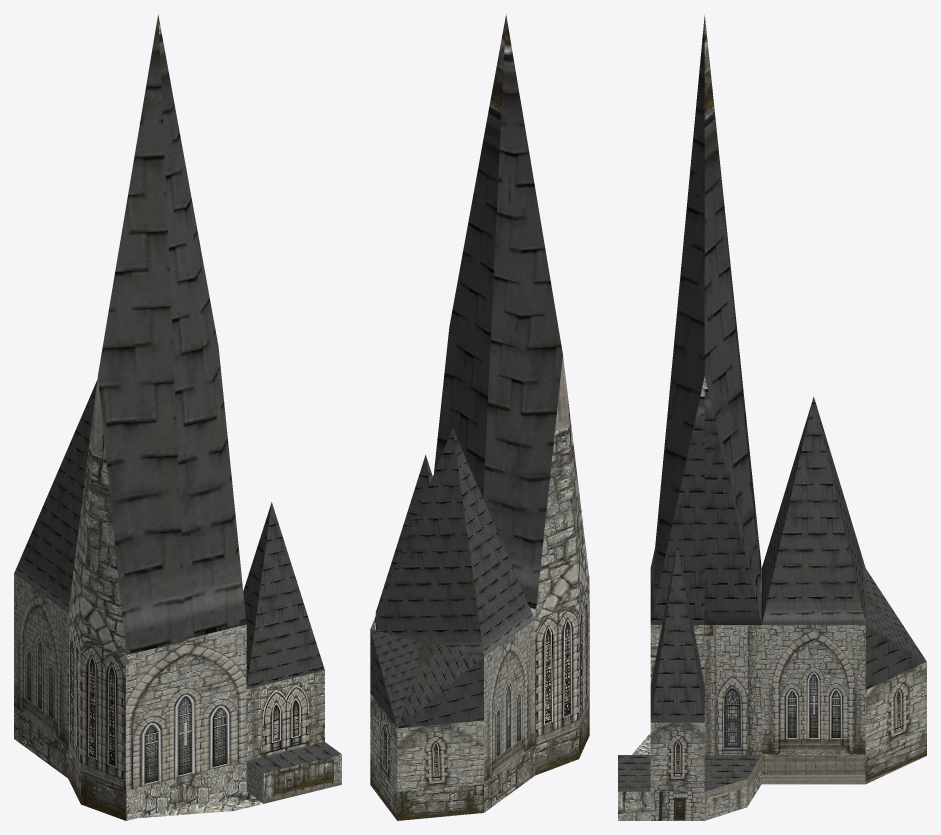
File: castille.fbx
3 views of the same model, side by side, from view 1: azimuth 30°, elevation 25°; view 2: azimuth 150°, elevation 25°; view 3: azimuth 270°, elevation 25° (orthographic). The views are drawn at different scales.
Visible parts, largest first — view 1: Cube; view 2: Cube; view 3: Cube.
Part boxes in pixels (box(x1,y1,x2,y2)): Cube: box(14, 14, 341, 820); Cube: box(370, 14, 589, 820); Cube: box(618, 15, 926, 820).
Size of the model in its own units: 1479 by 5051 by 1905.
